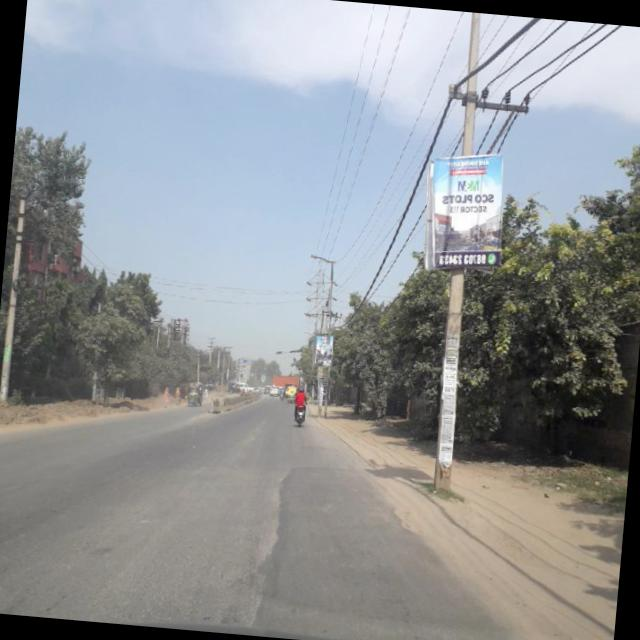crack: (242, 466, 304, 630)
